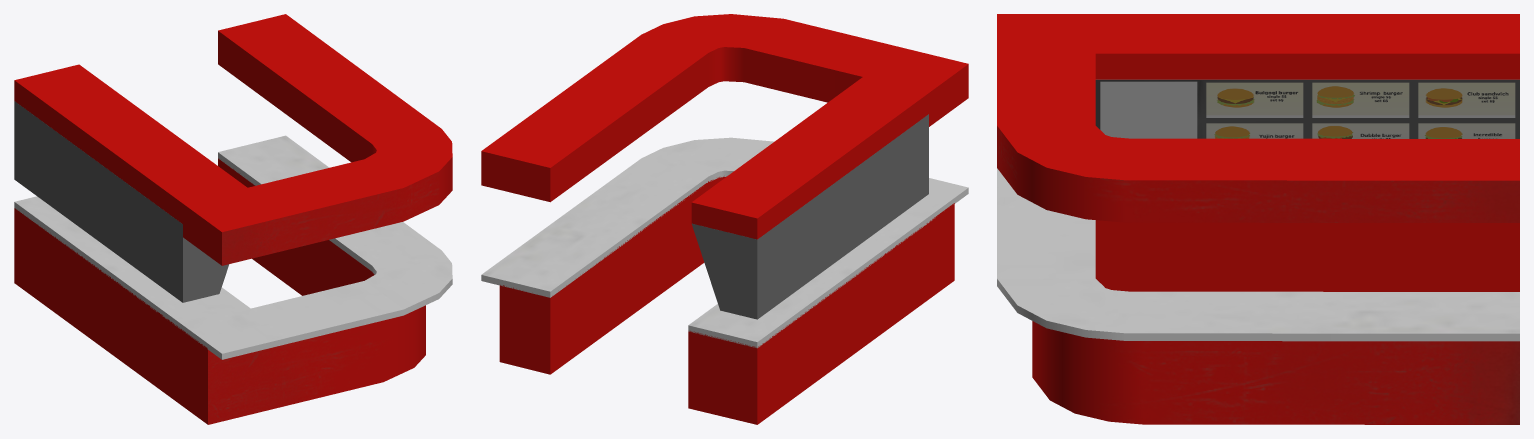
The model's file is counter.glb.
3 renders of one model, left to right at view 1: azimuth 30°, elevation 25°; view 2: azimuth 150°, elevation 25°; view 3: azimuth 270°, elevation 25°, orthographic. The views are drawn at different scales.
Parts seen in each view (by area): view 1: fbx_hamburger_counter; view 2: fbx_hamburger_counter; view 3: fbx_hamburger_counter.
Boxes of the visible parts, x1,y1,x2,y2 form: fbx_hamburger_counter: (14, 14, 452, 424); fbx_hamburger_counter: (481, 14, 968, 424); fbx_hamburger_counter: (997, 14, 1519, 424).
Bounding box in the file's own units: 7.37 × 5.27 × 9.76.
2 materials, 2 textured.
